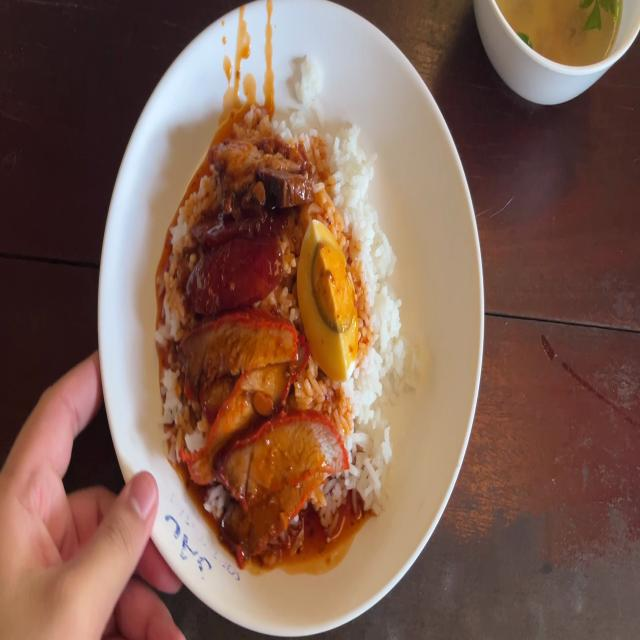red_pork_and_crispy_pork: (306, 235, 345, 371)
stir_fried_basil: (188, 207, 284, 301)
